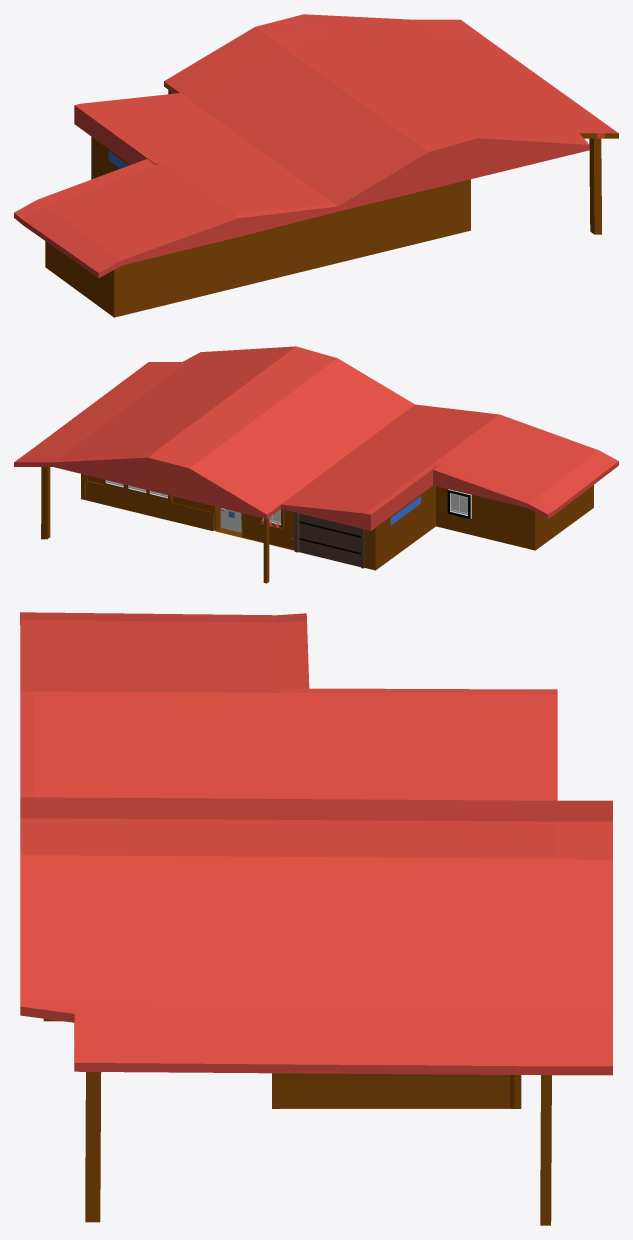
Rendered from Dom V2.fbx.
The picture shows the model from 3 angles, top to bottom: view 1: azimuth 30°, elevation 25°; view 2: azimuth 150°, elevation 25°; view 3: azimuth 270°, elevation 25°; orthographic projection. The views are drawn at different scales.
Visible parts, largest first — view 1: Cube; view 2: Cube, Cube.001, Cube.006; view 3: Cube.
Part boxes in pixels (left/top/right/bottom): Cube: left=14, top=14, right=618, bottom=317; Cube: left=14, top=346, right=618, bottom=583; Cube.001: left=294, top=512, right=364, bottom=568; Cube.006: left=447, top=489, right=471, bottom=519; Cube: left=20, top=612, right=612, bottom=1225.
Bounding box in the file's own units: 5195 × 1363 × 2917.
